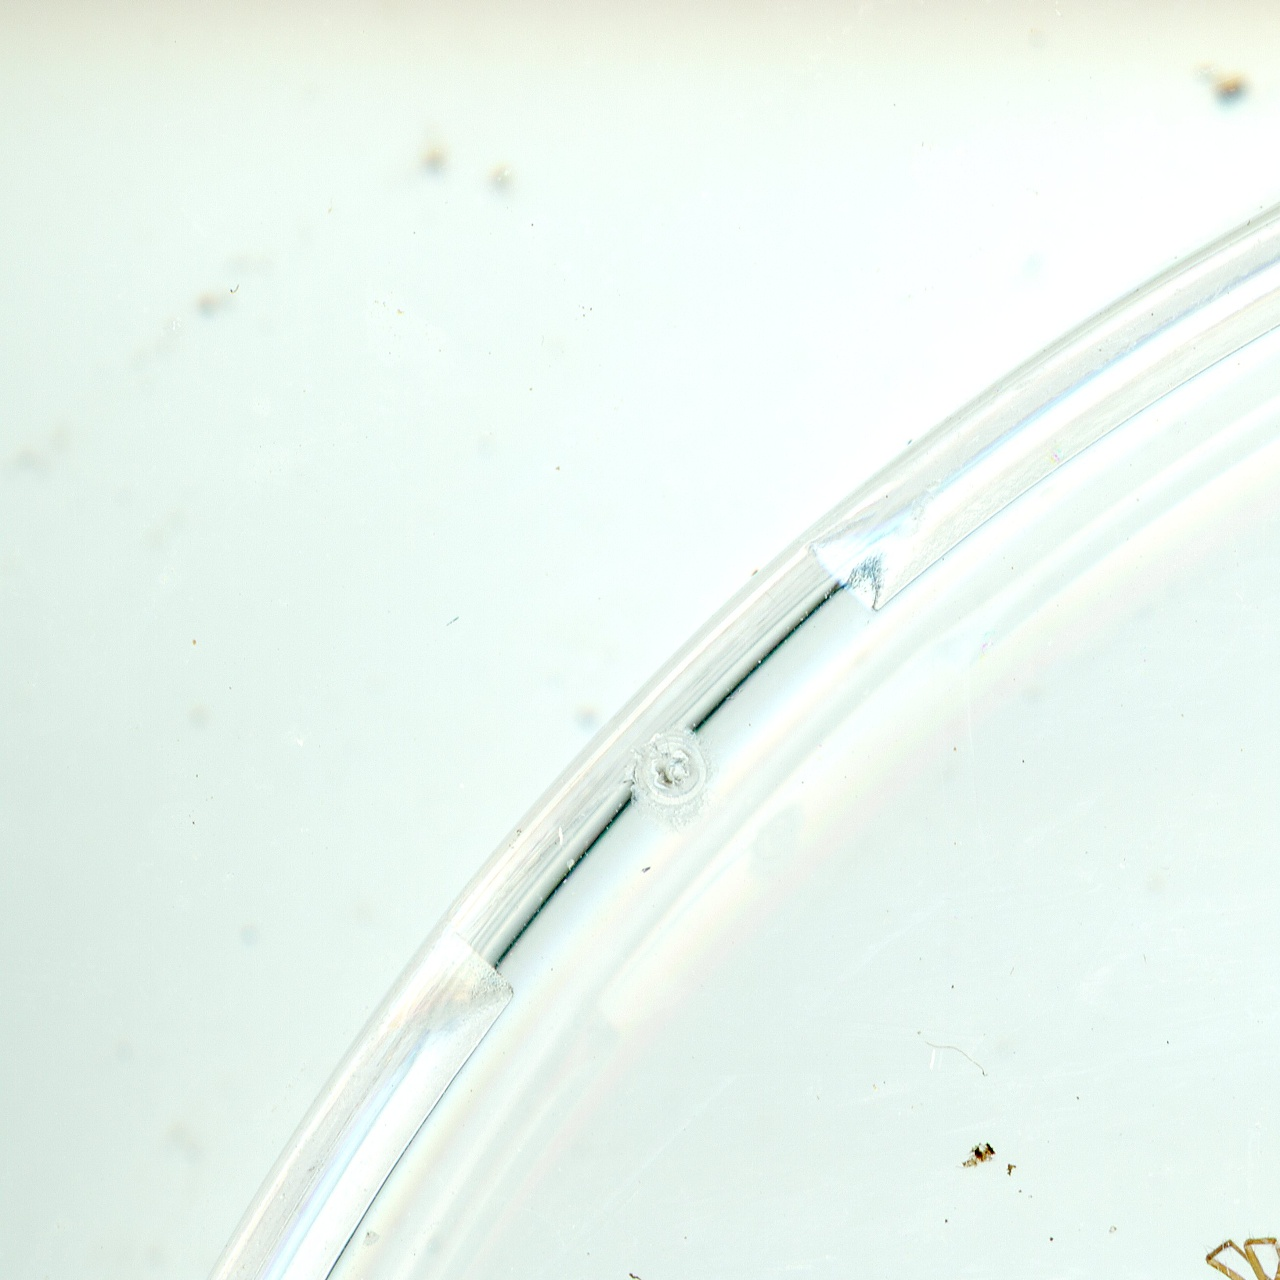arthropod: (1197, 1216, 1280, 1280)
